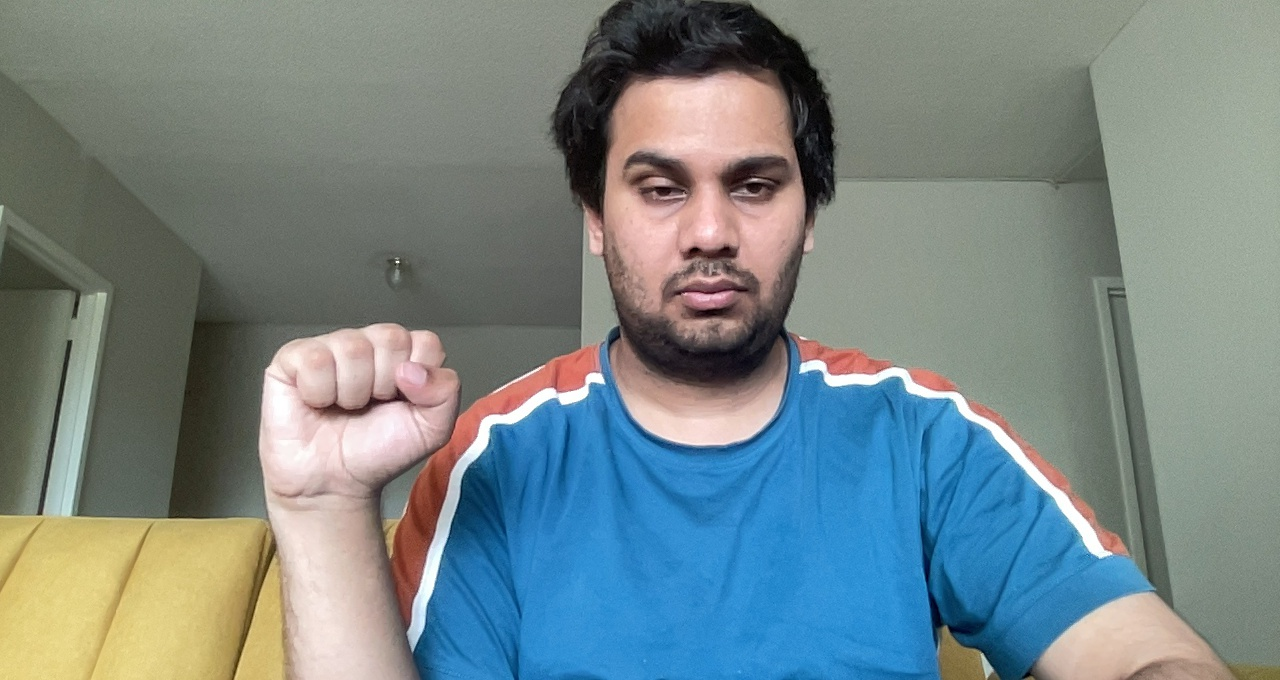closedfist: (250, 318, 473, 515)
